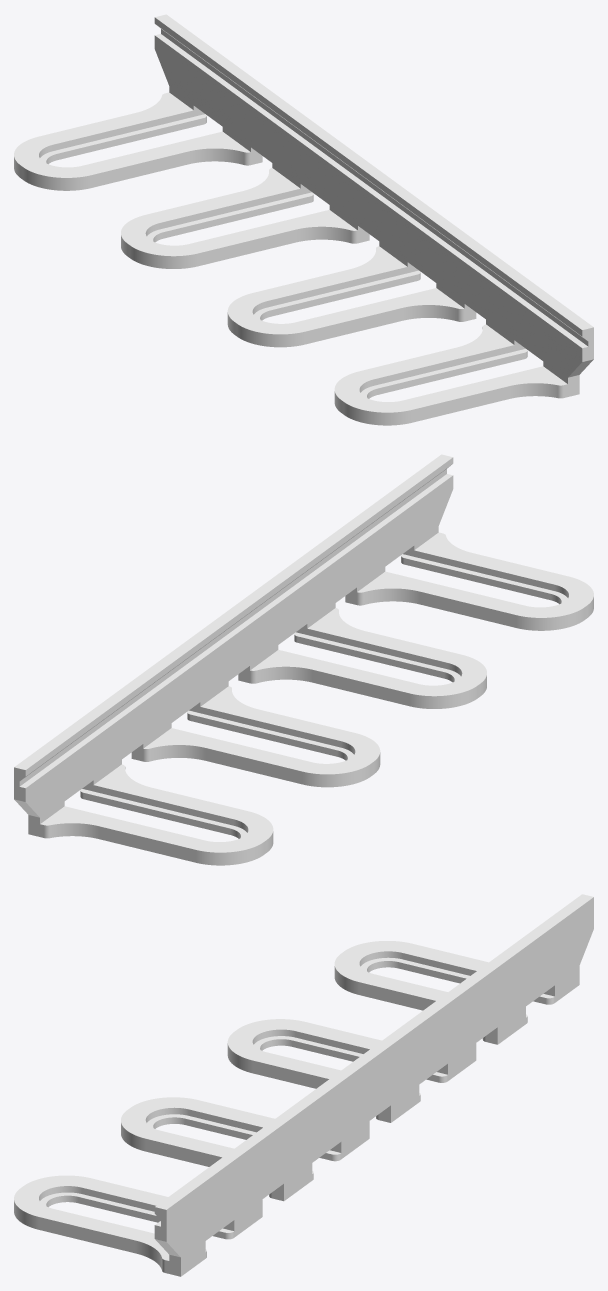
Rendered from adj-strip-feeder-right.glb.
3 renders of one model, top to bottom at view 1: azimuth 30°, elevation 25°; view 2: azimuth 150°, elevation 25°; view 3: azimuth 330°, elevation 25°, orthographic.
Parts seen in each view (by area): view 1: adj-strip-feeder; view 2: adj-strip-feeder; view 3: adj-strip-feeder.
Boxes of the visible parts, left/top/right/bottom form: adj-strip-feeder: left=14, top=14, right=593, bottom=425; adj-strip-feeder: left=14, top=454, right=593, bottom=865; adj-strip-feeder: left=14, top=894, right=593, bottom=1276.
Size of the model in its own units: 32.06 by 12 by 120.
1 material, 1 textured.
